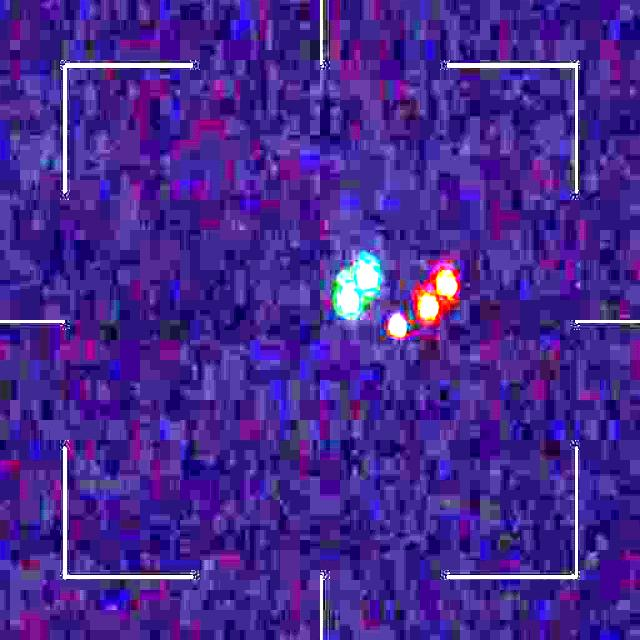bird: (339, 265, 458, 341)
